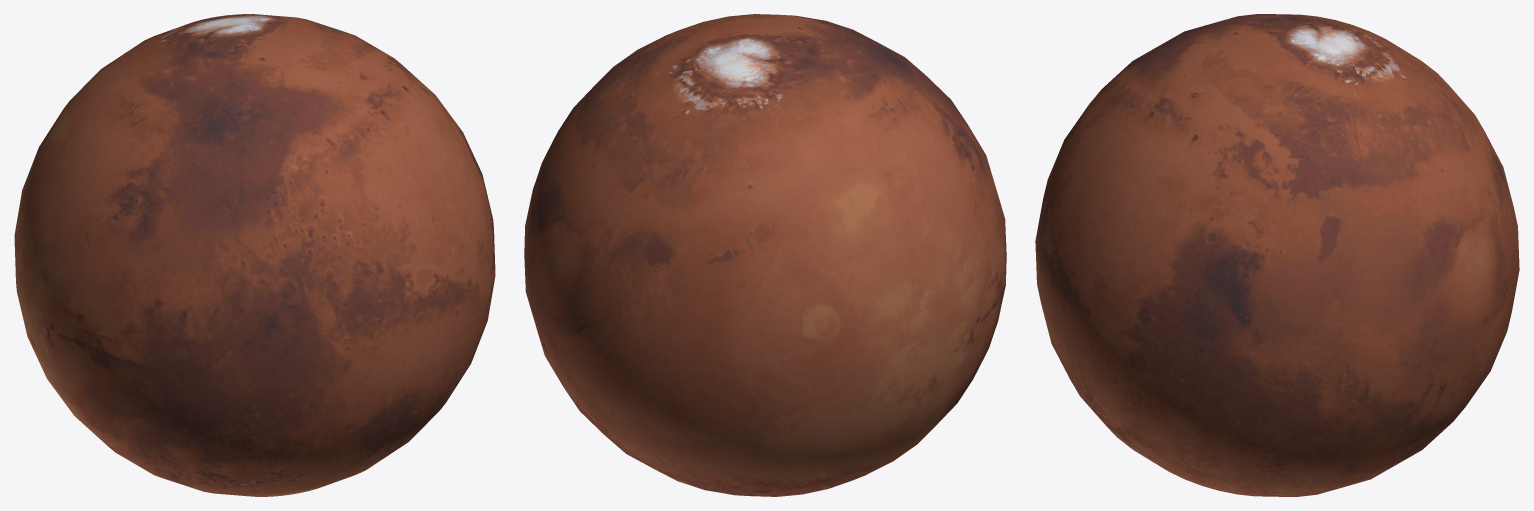
Rendered from mars.obj.
3 renders of one model, left to right at view 1: azimuth 30°, elevation 25°; view 2: azimuth 150°, elevation 25°; view 3: azimuth 270°, elevation 25°, orthographic.
Parts seen in each view (by area): view 1: Mars_Mesh; view 2: Mars_Mesh; view 3: Mars_Mesh.
Boxes of the visible parts, left/top/right/bottom form: Mars_Mesh: left=14, top=14, right=495, bottom=496; Mars_Mesh: left=524, top=14, right=1006, bottom=496; Mars_Mesh: left=1035, top=14, right=1519, bottom=496.
Size of the model in its own units: 2.08 by 2.08 by 2.08.
Materials: 1 (1 with a texture image).
